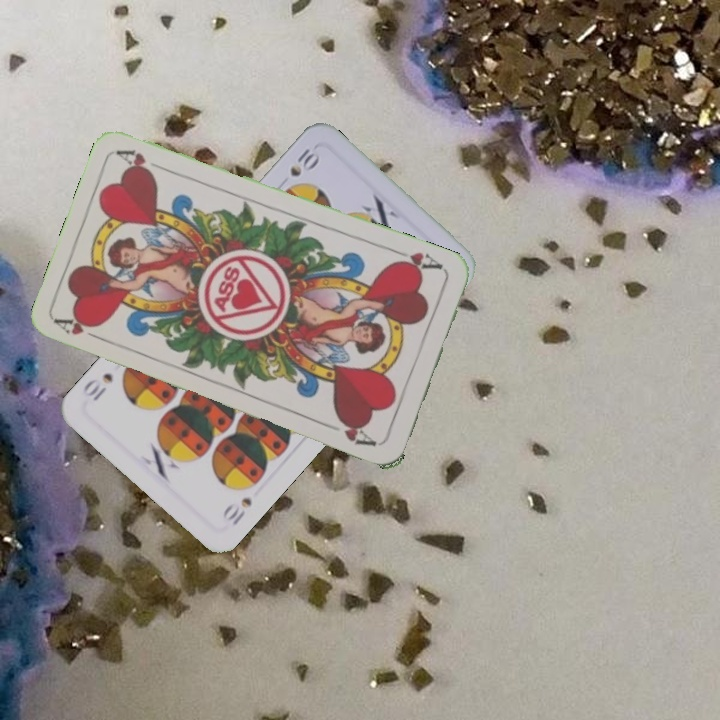HA: (388, 245, 446, 276), (52, 314, 110, 345)
S10: (285, 144, 322, 180), (218, 493, 255, 529)
